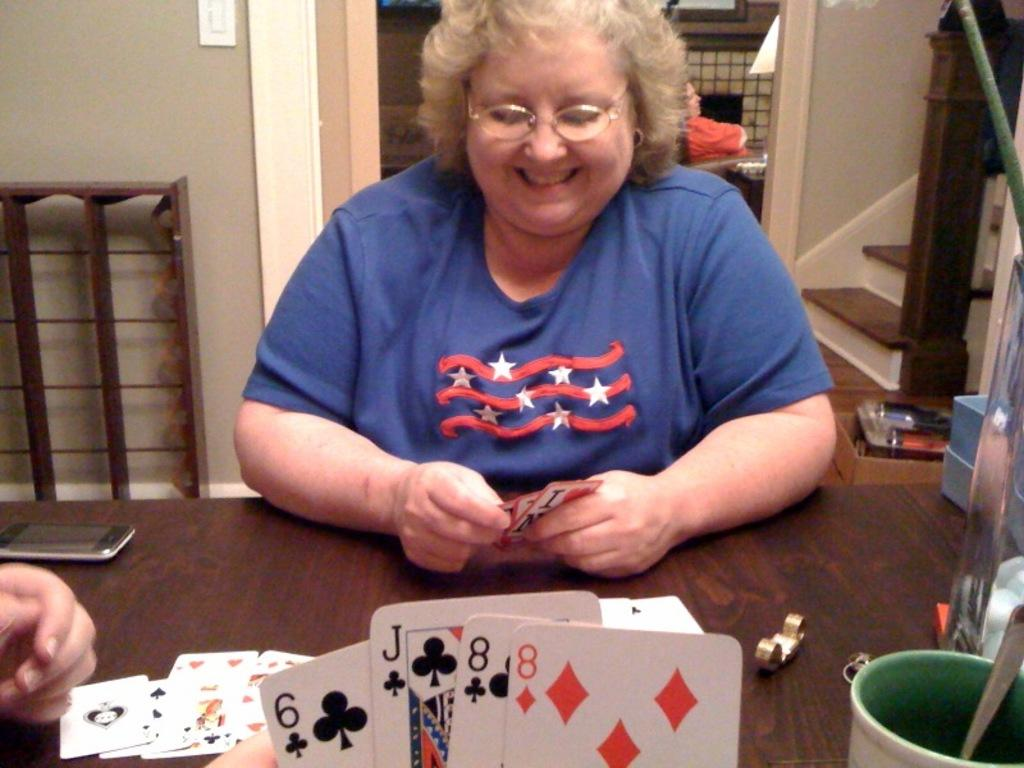Pessoa: (235, 0, 834, 575), (0, 563, 95, 722), (684, 82, 748, 163)
